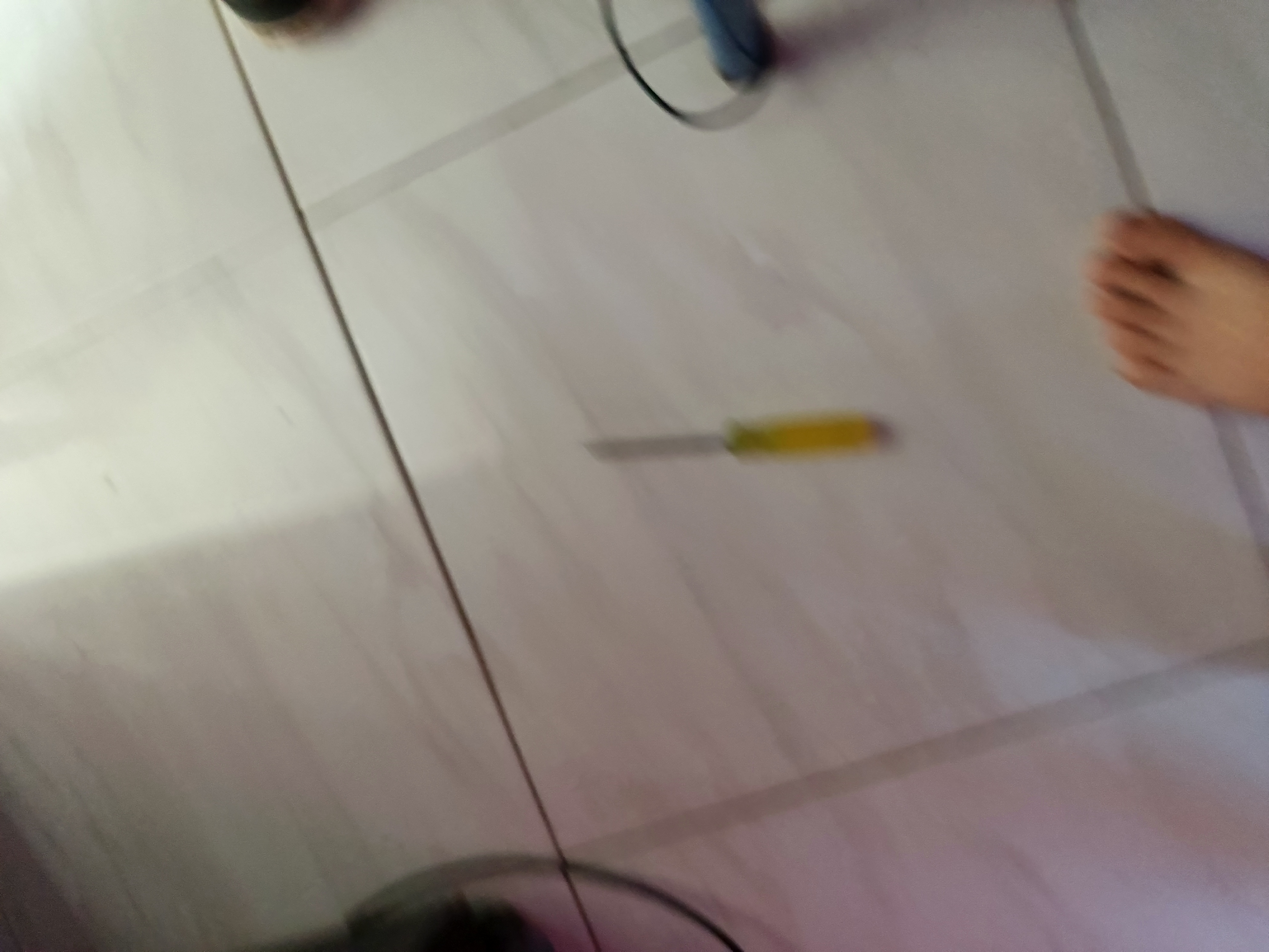Destornillador: (586, 411, 896, 468)
